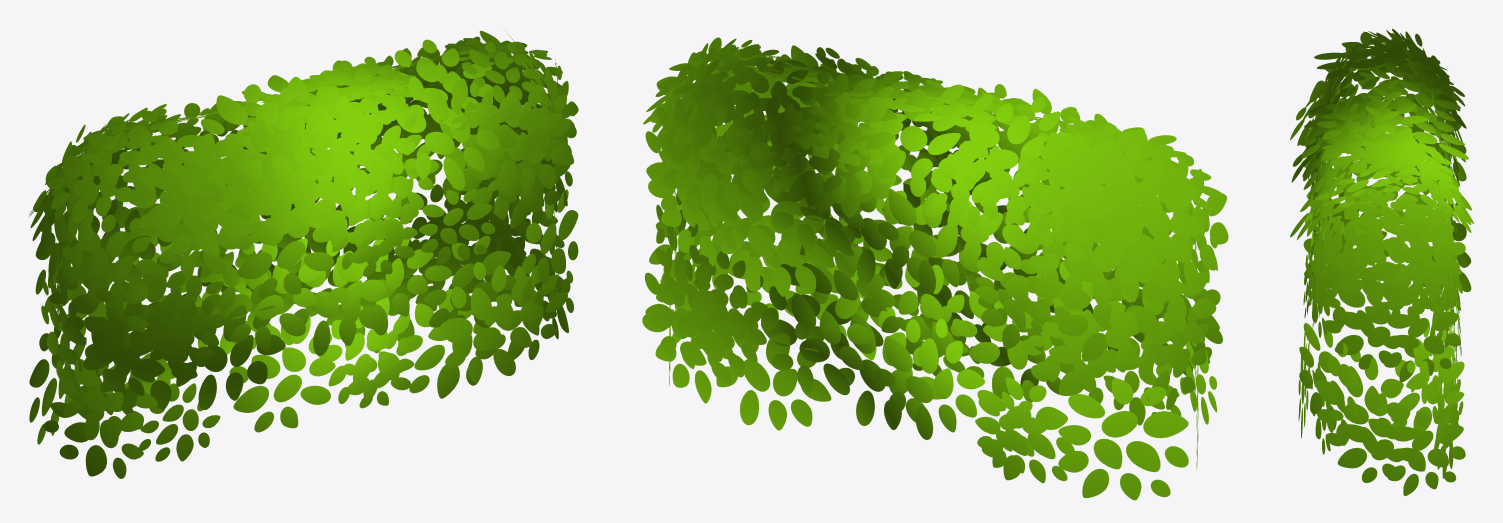
Rendered from quaternius-nature-bush-large.glb.
3 renders of one model, left to right at view 1: azimuth 30°, elevation 25°; view 2: azimuth 150°, elevation 25°; view 3: azimuth 270°, elevation 25°, orthographic. The views are drawn at different scales.
Parts seen in each view (by area): view 1: Bush_Large; view 2: Bush_Large; view 3: Bush_Large.
Part boxes in pixels (x1,y1,x2,y2): Bush_Large: (29, 30, 578, 478); Bush_Large: (642, 37, 1228, 500); Bush_Large: (1290, 28, 1473, 495).
Bounding box in the file's own units: 1.9 × 1.22 × 0.7238.
Materials: 1 (1 with a texture image).
